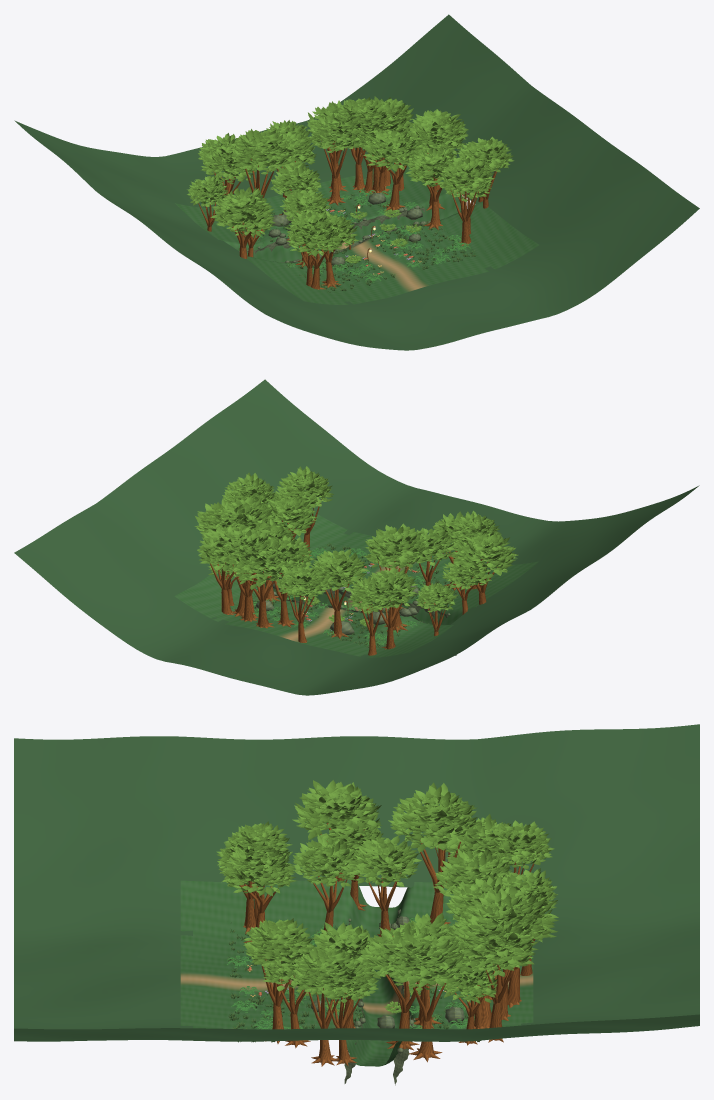
File: forest.glb
The picture shows the model from 3 angles, top to bottom: view 1: azimuth 30°, elevation 25°; view 2: azimuth 150°, elevation 25°; view 3: azimuth 270°, elevation 25°; orthographic projection. The views are drawn at different scales.
Parts seen in each view (by area): view 1: Distant forest valley, Terrain, Oak foliage 0.005, Oak foliage 2.002, Oak foliage 0.003, Oak foliage 2.001, Oak foliage 2.003, Oak foliage 1.006, Oak foliage 0.002, Oak foliage 1.002, Oak foliage 2.009, Oak foliage 1.004 (+13 smaller); view 2: Distant forest valley, Terrain, Oak foliage 0.005, Oak foliage 2.002, Oak foliage 1.003, Oak foliage 0.007, Oak foliage 2.001, Oak foliage 2.006, Oak foliage 0.002, Oak foliage 2.005, Oak foliage 2.010, Oak foliage 1.004 (+11 smaller); view 3: Distant forest valley, Terrain, Oak foliage 2.002, Oak foliage 0.005, Oak foliage 1.008, Oak foliage 1.007, Oak foliage 2.001, Oak foliage 1.002, Oak foliage 1.001, Oak foliage 0.001, Oak foliage 2.009, Oak foliage 2.010 (+24 smaller).
Part boxes in pixels (x1=…): Distant forest valley: x1=14, y1=14, x2=699, y2=350; Terrain: x1=175, y1=162, x2=538, y2=304; Oak foliage 0.005: x1=210, y1=187, x2=275, y2=233; Oak foliage 2.002: x1=230, y1=129, x2=291, y2=174; Oak foliage 0.003: x1=363, y1=129, x2=420, y2=171; Oak foliage 2.001: x1=438, y1=155, x2=494, y2=194; Oak foliage 2.003: x1=309, y1=113, x2=361, y2=152; Oak foliage 1.006: x1=403, y1=119, x2=463, y2=157; Oak foliage 0.002: x1=405, y1=146, x2=457, y2=188; Oak foliage 1.002: x1=270, y1=163, x2=321, y2=195; Oak foliage 2.009: x1=461, y1=136, x2=514, y2=172; Oak foliage 1.004: x1=201, y1=145, x2=256, y2=184; Distant forest valley: x1=14, y1=379, x2=699, y2=695; Terrain: x1=174, y1=512, x2=538, y2=657; Oak foliage 0.005: x1=450, y1=532, x2=518, y2=579; Oak foliage 2.002: x1=364, y1=523, x2=430, y2=567; Oak foliage 1.003: x1=310, y1=549, x2=368, y2=591; Oak foliage 0.007: x1=233, y1=538, x2=295, y2=589; Oak foliage 2.001: x1=276, y1=466, x2=333, y2=507; Oak foliage 2.006: x1=276, y1=565, x2=328, y2=599; Oak foliage 0.002: x1=261, y1=496, x2=317, y2=536; Oak foliage 2.005: x1=220, y1=527, x2=273, y2=569; Oak foliage 2.010: x1=348, y1=576, x2=395, y2=612; Oak foliage 1.004: x1=367, y1=567, x2=417, y2=608; Distant forest valley: x1=14, y1=724, x2=699, y2=1041; Terrain: x1=180, y1=879, x2=533, y2=1066; Oak foliage 2.002: x1=388, y1=782, x2=480, y2=852; Oak foliage 0.005: x1=292, y1=780, x2=381, y2=843; Oak foliage 1.008: x1=455, y1=909, x2=538, y2=976; Oak foliage 1.007: x1=387, y1=933, x2=467, y2=991; Oak foliage 2.001: x1=243, y1=918, x2=315, y2=971; Oak foliage 1.002: x1=351, y1=835, x2=421, y2=886; Oak foliage 1.001: x1=293, y1=834, x2=359, y2=887; Oak foliage 0.001: x1=219, y1=845, x2=297, y2=896; Oak foliage 2.009: x1=292, y1=947, x2=356, y2=998; Oak foliage 2.010: x1=485, y1=820, x2=554, y2=869.
Size of the model in its own units: 70 by 18.99 by 70.
14 materials, 5 textured.
